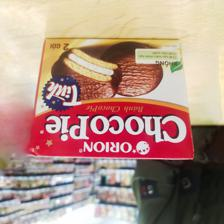Chocopie: (22, 36, 197, 166)
